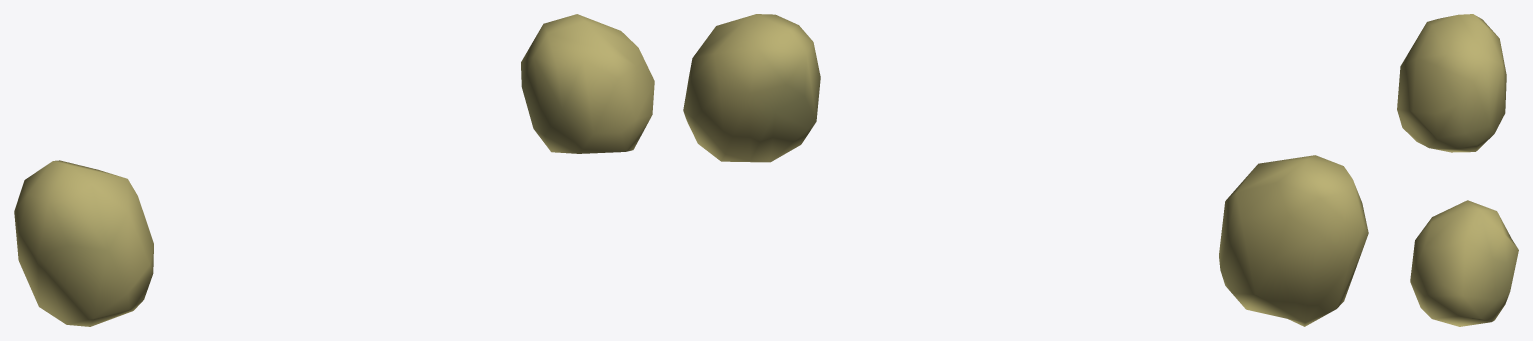
The picture shows the model from 3 angles, left to right: view 1: azimuth 30°, elevation 25°; view 2: azimuth 150°, elevation 25°; view 3: azimuth 270°, elevation 25°; orthographic projection. The views are drawn at different scales.
Visible parts, largest first — view 1: LOD 2_5261851821754165480_820756dedd5b3434c8e6bed8ae6a193b; view 2: LOD 2_5261851821754165480_820756dedd5b3434c8e6bed8ae6a193b; view 3: LOD 2_5261851821754165480_820756dedd5b3434c8e6bed8ae6a193b.
Part boxes in pixels (box(x1,y1,x2,y2)): LOD 2_5261851821754165480_820756dedd5b3434c8e6bed8ae6a193b: box(14, 14, 654, 326); LOD 2_5261851821754165480_820756dedd5b3434c8e6bed8ae6a193b: box(683, 14, 1368, 326); LOD 2_5261851821754165480_820756dedd5b3434c8e6bed8ae6a193b: box(1397, 14, 1518, 326).
Size of the model in its own units: 1.17 by 0.295 by 0.2405.
